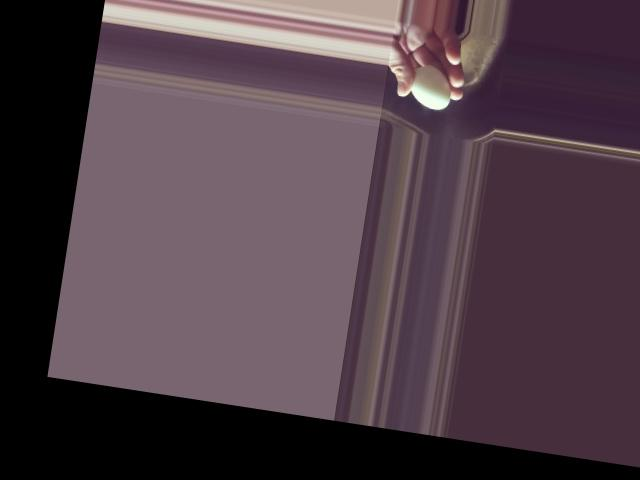egg: (408, 63, 454, 111)
